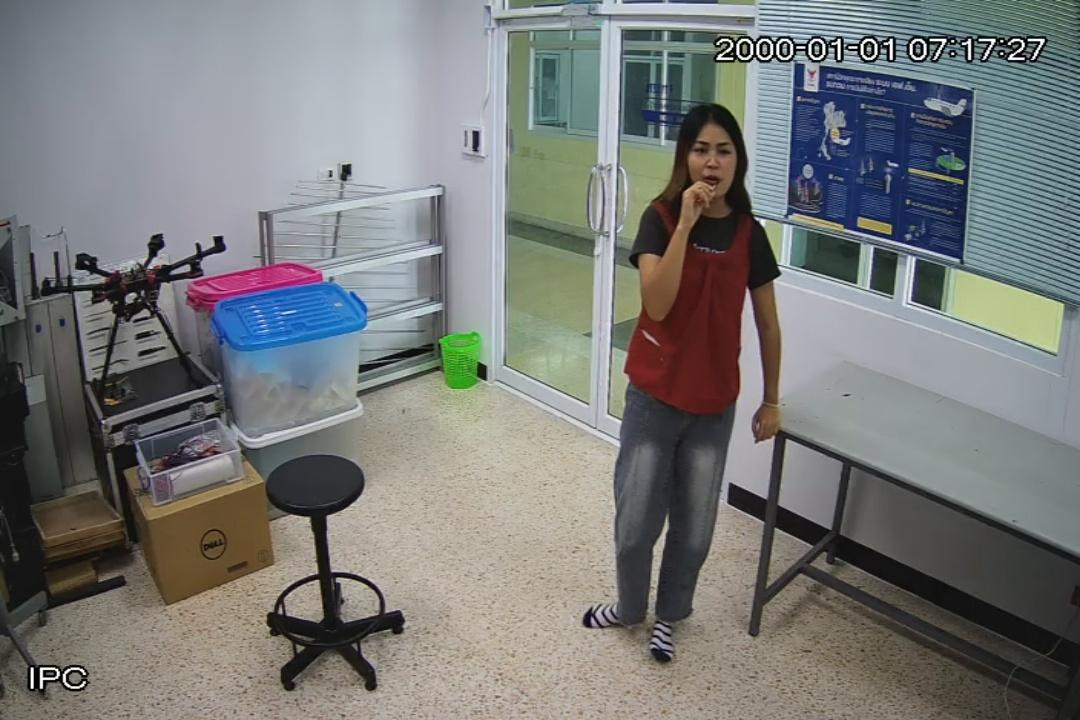normal: (570, 97, 787, 680)
